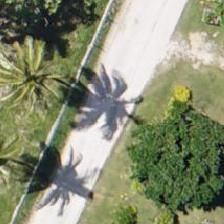coconut_tree: (0, 31, 77, 121)
